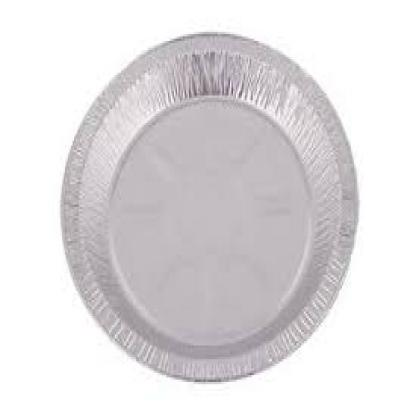Compsot: (57, 27, 357, 382)
